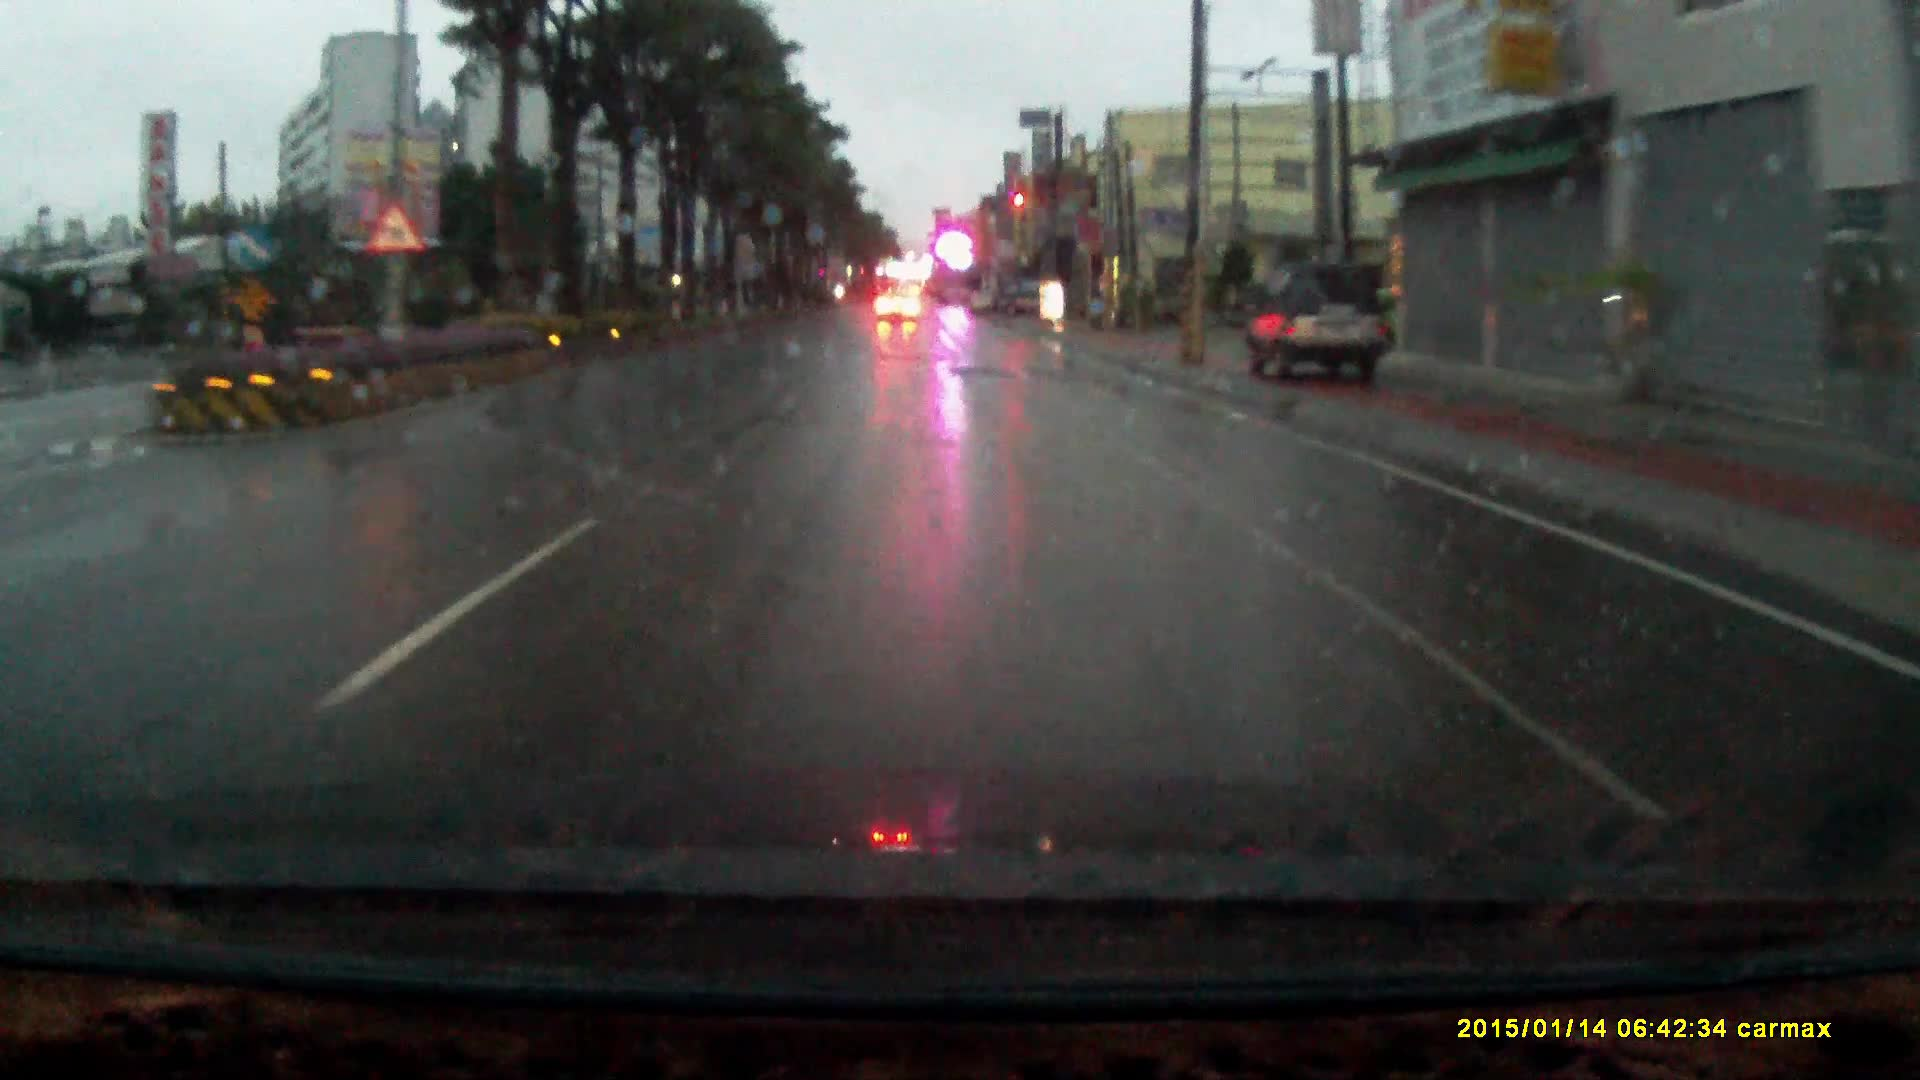vehicle: (1242, 265, 1400, 394), (876, 286, 920, 324)
